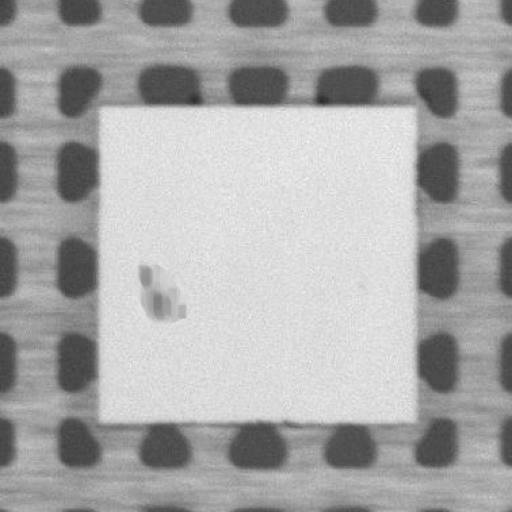DIE_INK: (128, 257, 190, 328)
